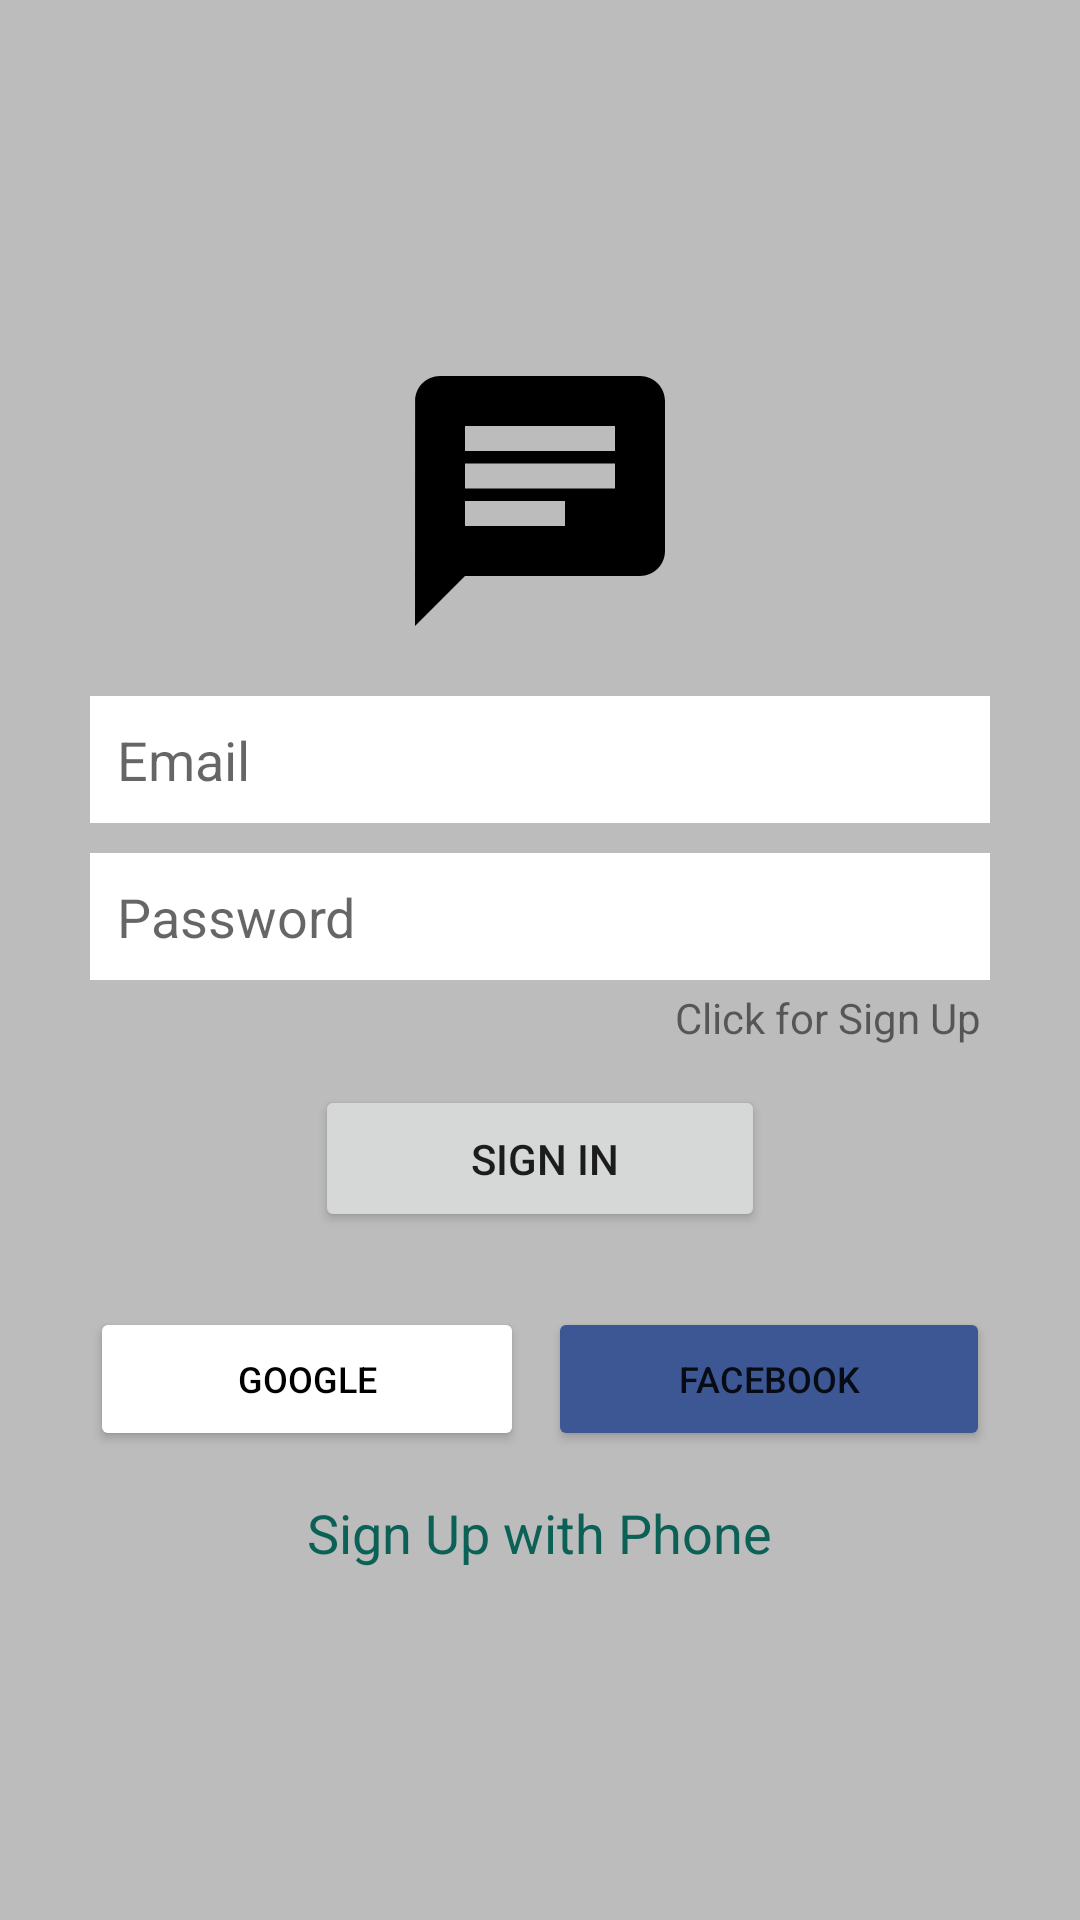

Icons on this 1080px×1920px Android screen, each with its box as [x1=x1, y1=y1, x2=x2, y2=y2]:
chat: [x1=415, y1=376, x2=665, y2=626]
